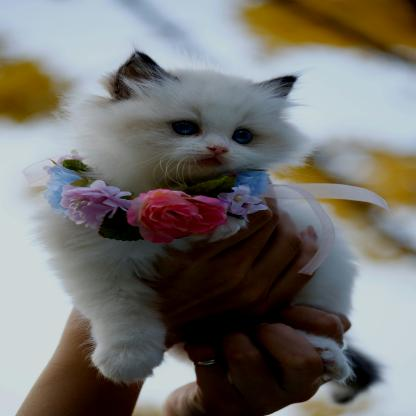cat: (14, 48, 388, 408)
